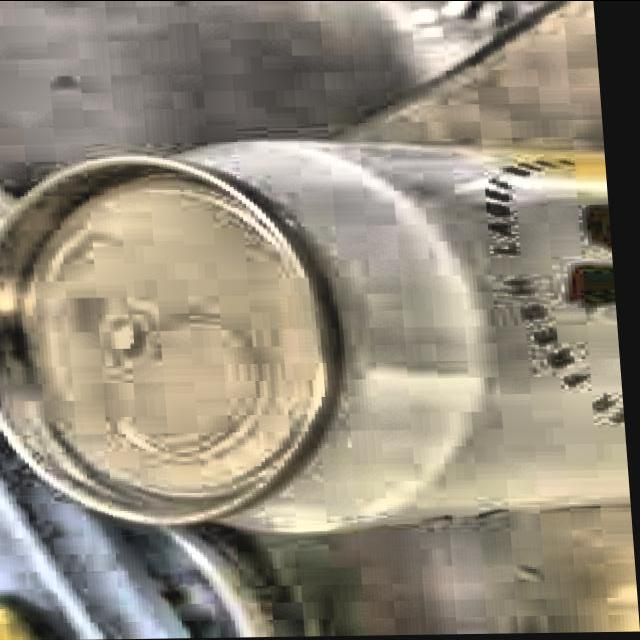litter: (0, 129, 634, 542)
